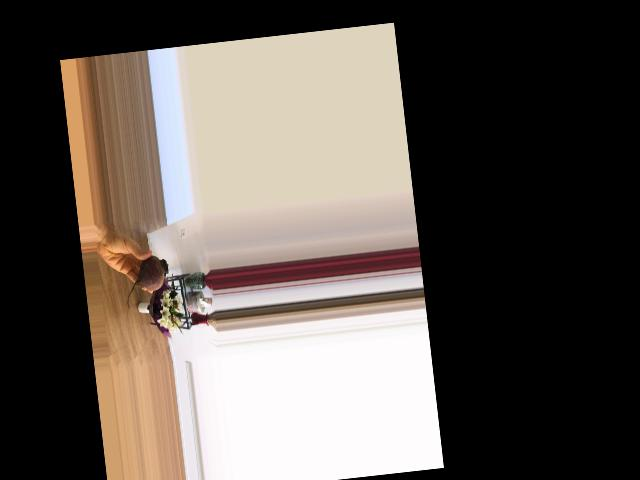beet: (122, 254, 172, 310)
